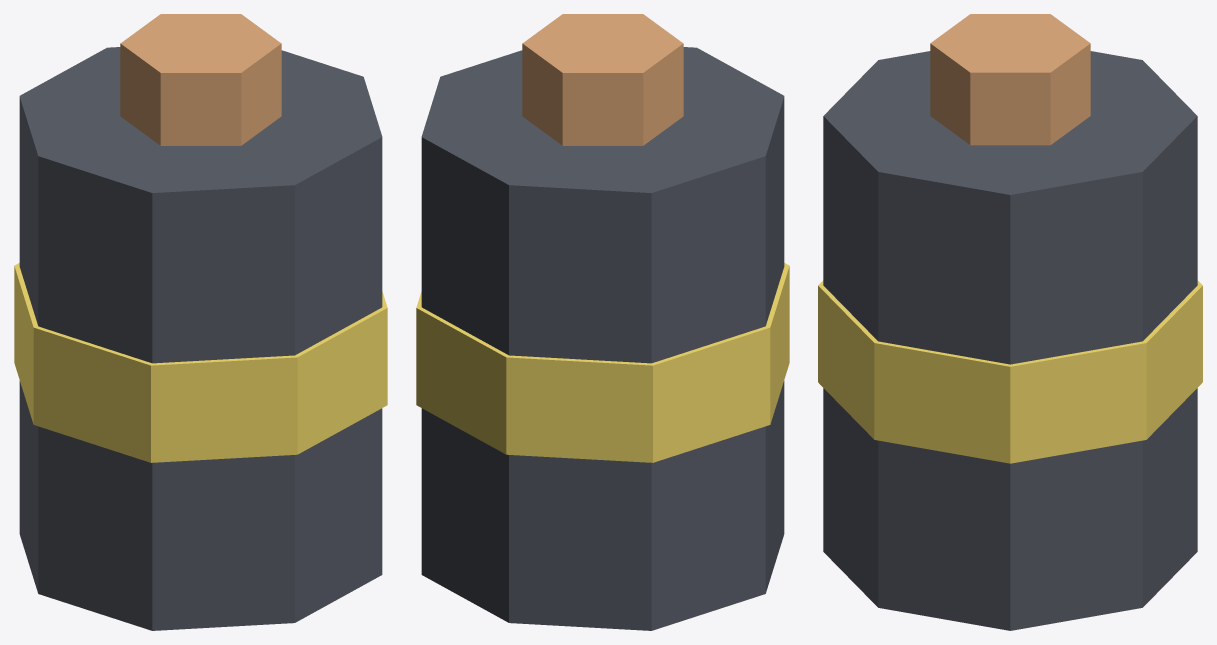
File: bateria.glb
The picture shows the model from 3 angles, left to right: view 1: azimuth 30°, elevation 25°; view 2: azimuth 150°, elevation 25°; view 3: azimuth 270°, elevation 25°; orthographic projection.
Parts seen in each view (by area): view 1: bateria; view 2: bateria; view 3: bateria.
Part boxes in pixels (x1,y1,x2,y2): bateria: [14, 14, 387, 630]; bateria: [416, 14, 789, 630]; bateria: [818, 14, 1202, 630].
Bounding box in the file's own units: 0.144 × 0.21 × 0.144.
